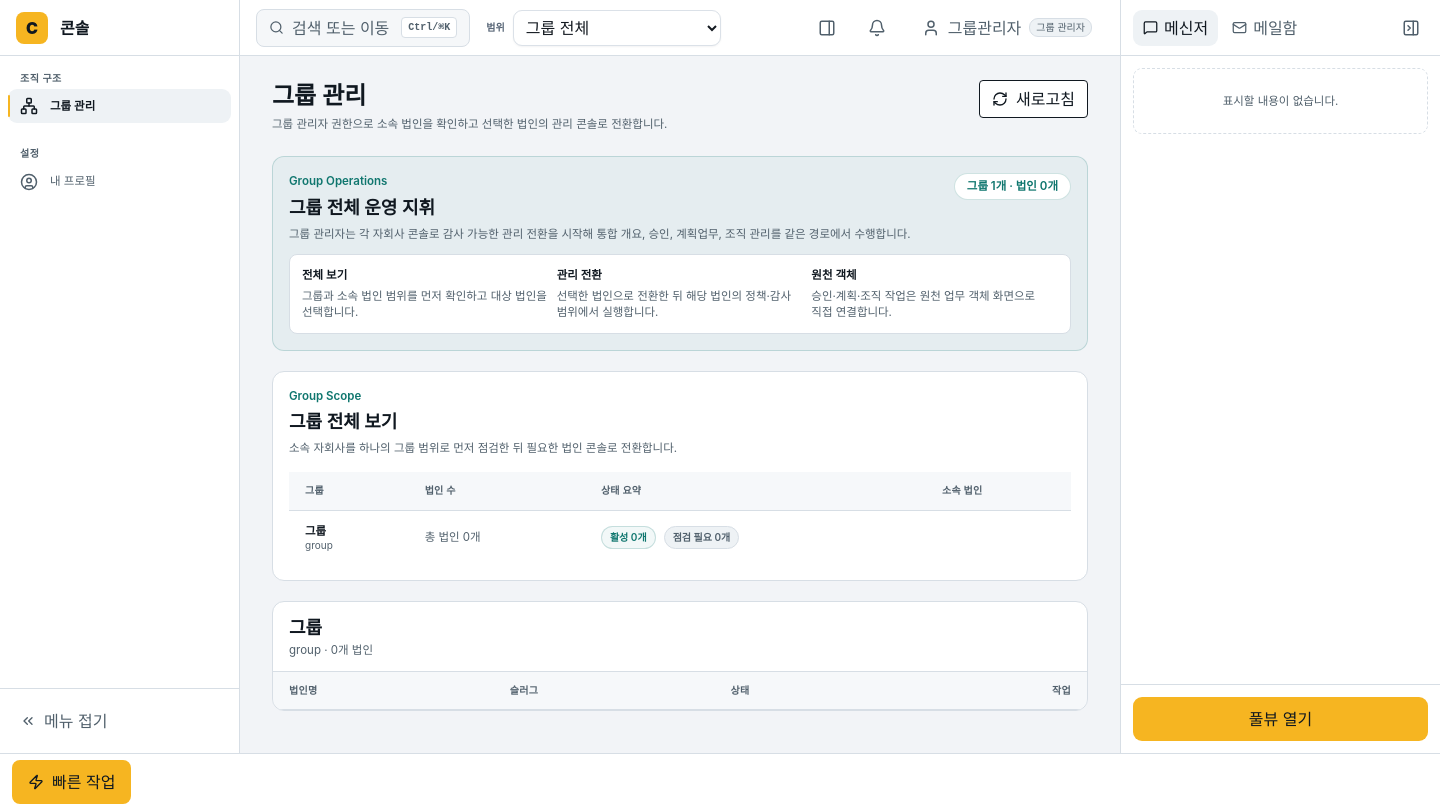
Test case: Topbar identity › hides location settings from group-admin-only MEMBER sessions
The width and height of the screenshot is (1440, 810).
Check: the heading "그룹 관리" is shown, box [272,81,366,110]
Click the button with aria-label "사용자 메뉴".
click(1007, 28)  # box [910,8,1104,48]
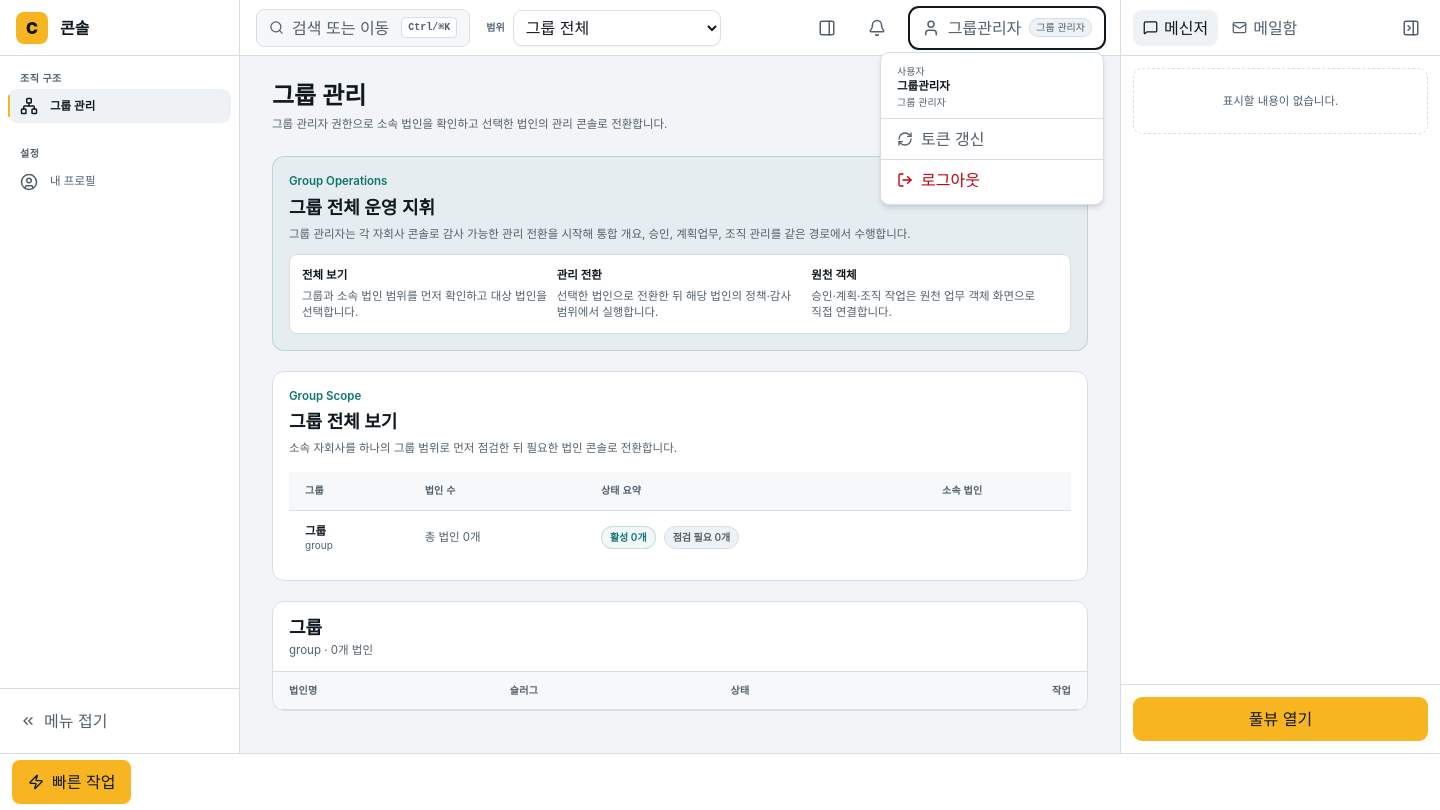
Check: the menu item "토큰 갱신" is shown, box [881,119,1103,159]
